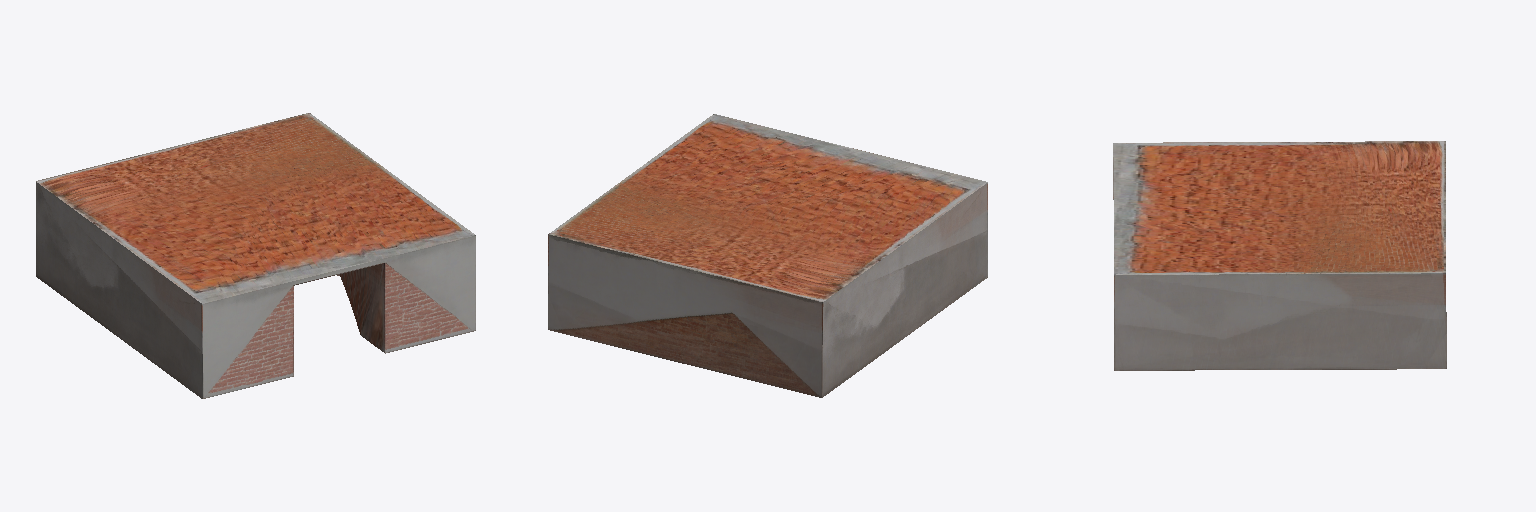
The picture shows the model from 3 angles: view 1: azimuth 30°, elevation 25°; view 2: azimuth 150°, elevation 25°; view 3: azimuth 270°, elevation 25°; orthographic projection.
Parts seen in each view (by area): view 1: model; view 2: model; view 3: model.
Boxes of the visible parts, box(x1,y1,x2,y2) form: model: box(36, 113, 475, 398); model: box(548, 114, 987, 397); model: box(1113, 141, 1446, 370).
Size of the model in its own units: 1.91 by 0.6517 by 2.
Materials: 1 (1 with a texture image).